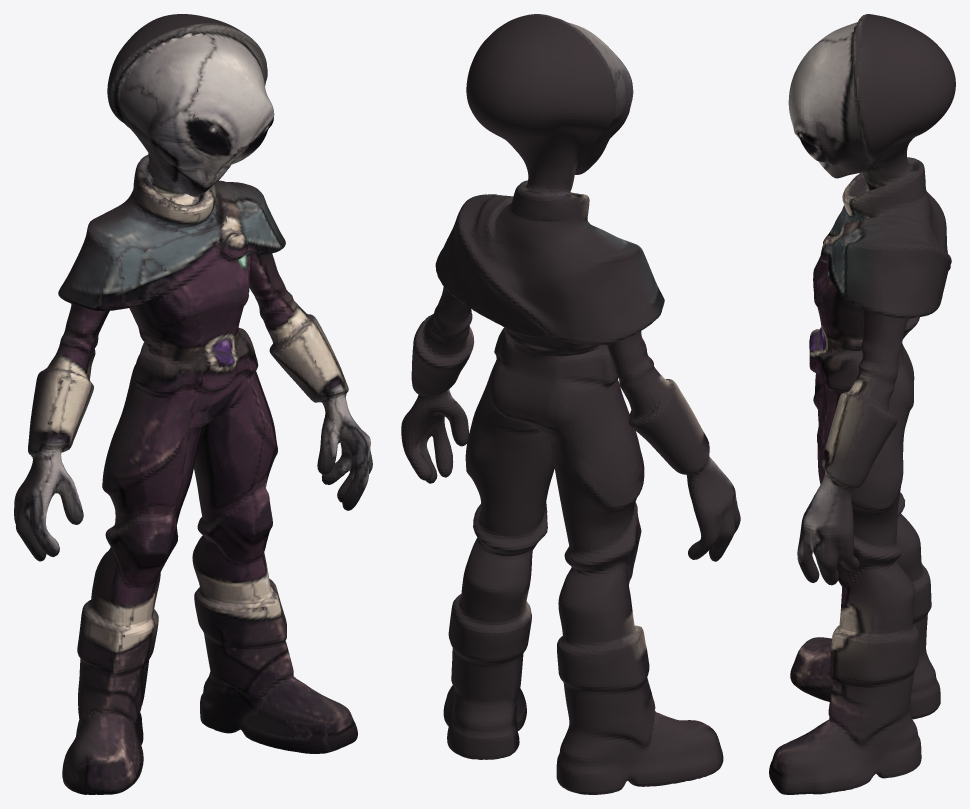
Rendered from vey-hunyuan-painted.glb.
3 renders of one model, left to right at view 1: azimuth 30°, elevation 25°; view 2: azimuth 150°, elevation 25°; view 3: azimuth 270°, elevation 25°, orthographic. The views are drawn at different scales.
Parts seen in each view (by area): view 1: geometry_0; view 2: geometry_0; view 3: geometry_0.
Part boxes in pixels (x1,y1,x2,y2): geometry_0: (14,14,372,794); geometry_0: (401,14,740,794); geometry_0: (769,14,955,794).
Bounding box in the file's own units: 0.9815 × 1.99 × 0.4731.
Materials: 1 (1 with a texture image).
